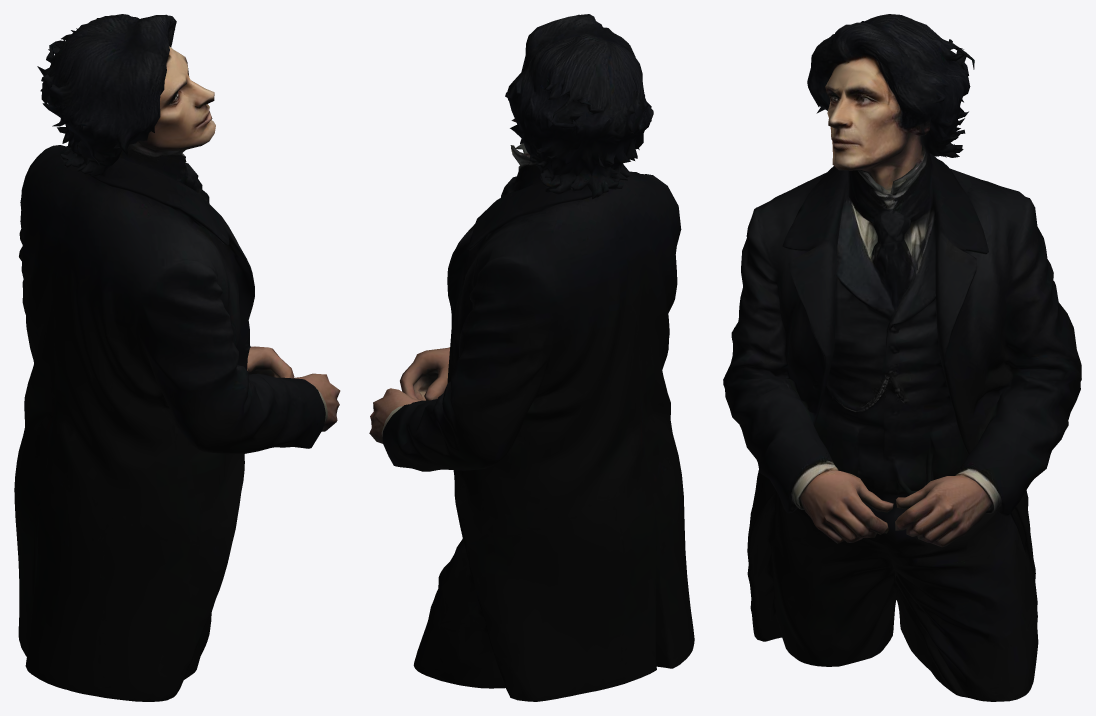
File: supporter-010.glb
3 views of the same model, side by side, from view 1: azimuth 30°, elevation 25°; view 2: azimuth 150°, elevation 25°; view 3: azimuth 270°, elevation 25° (orthographic). The views are drawn at different scales.
Parts seen in each view (by area): view 1: tripo_node_02add59c-16e8-42a7-8fb7-4a7815451c67; view 2: tripo_node_02add59c-16e8-42a7-8fb7-4a7815451c67; view 3: tripo_node_02add59c-16e8-42a7-8fb7-4a7815451c67.
Boxes of the visible parts, x1,y1,x2,y2 form: tripo_node_02add59c-16e8-42a7-8fb7-4a7815451c67: (14,14,340,701); tripo_node_02add59c-16e8-42a7-8fb7-4a7815451c67: (369,14,694,701); tripo_node_02add59c-16e8-42a7-8fb7-4a7815451c67: (723,14,1081,701).
Bounding box in the file's own units: 0.8896 × 1.85 × 0.952.
Materials: 1 (1 with a texture image).
